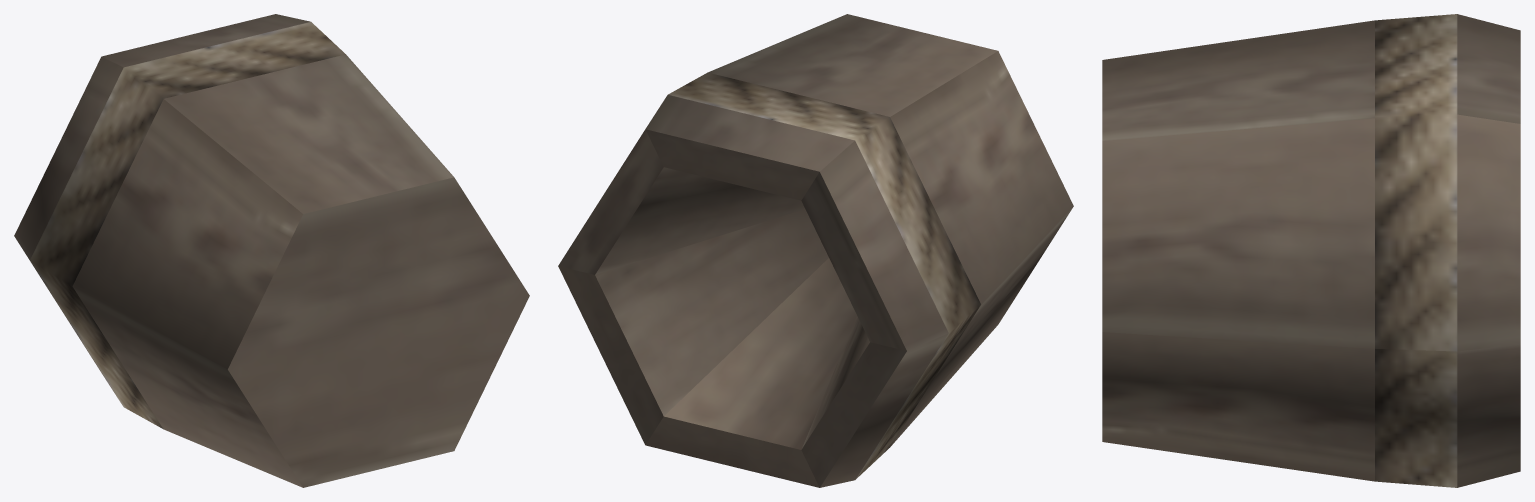
Rendered from Wood_Glass_A.fbx.
The picture shows the model from 3 angles, left to right: view 1: azimuth 30°, elevation 25°; view 2: azimuth 150°, elevation 25°; view 3: azimuth 270°, elevation 25°; orthographic projection. The views are drawn at different scales.
Parts seen in each view (by area): view 1: Wood_Glass_A; view 2: Wood_Glass_A; view 3: Wood_Glass_A.
Part boxes in pixels (box(x1,y1,x2,y2)): Wood_Glass_A: box(14, 14, 529, 487); Wood_Glass_A: box(558, 14, 1073, 487); Wood_Glass_A: box(1102, 14, 1520, 487).
Bounding box in the file's own units: 0.2244 × 0.1944 × 0.1973.
